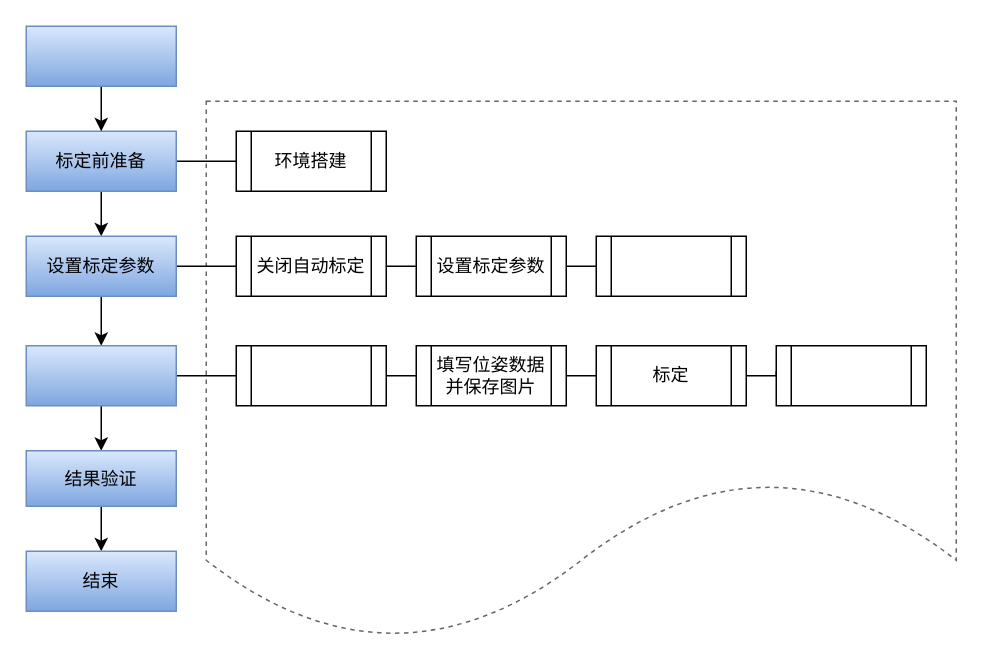
Image size: 983x668. Some labels were removed from this diagram. The shapes that lost their labels are listed below. From the top down, each one's centre as x and y in pixels, then its label:
At (100,55): "开始".
At (670,265): "检查设备".
At (100,375): "进行标定 （手动标定）".
At (310,375): "手动移动机器人到拍照位姿".
At (850,375): "确定用于标定的图片和数据".
